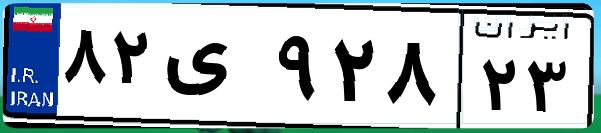2: (330, 28, 385, 110), (475, 38, 525, 113), (110, 28, 158, 98)
3: (525, 38, 570, 115)
8: (385, 28, 445, 110), (57, 26, 110, 100)
9: (270, 28, 330, 110)
ی: (158, 20, 270, 120)
